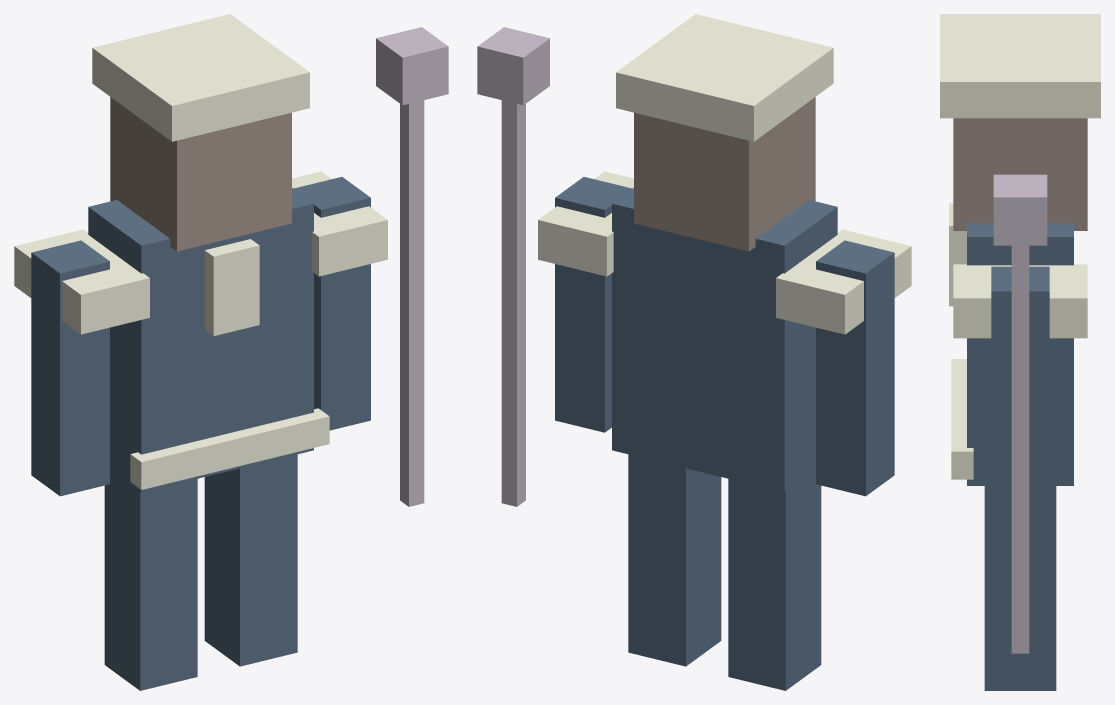
File: 10_vexa_riftwalker_operator_under_stabilizer.glb
3 renders of one model, left to right at view 1: azimuth 30°, elevation 25°; view 2: azimuth 150°, elevation 25°; view 3: azimuth 270°, elevation 25°, orthographic.
Visible parts, largest first — view 1: Vexa Riftwalker, Operator under Stabilizer; view 2: Vexa Riftwalker, Operator under Stabilizer; view 3: Vexa Riftwalker, Operator under Stabilizer.
Boxes of the visible parts, x1,y1,x2,y2 form: Vexa Riftwalker, Operator under Stabilizer: (14,14,448,690); Vexa Riftwalker, Operator under Stabilizer: (477,14,911,690); Vexa Riftwalker, Operator under Stabilizer: (940,14,1100,690).
Bounding box in the file's own units: 1.11 × 1.64 × 0.3953.
